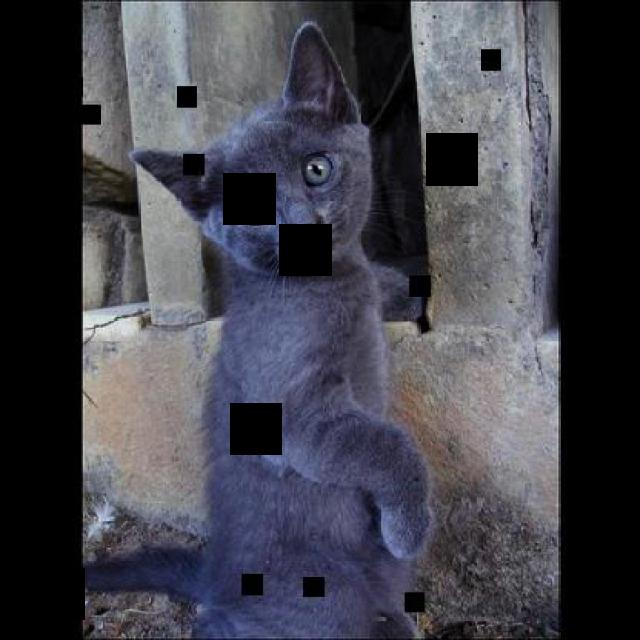unauthorized: (82, 19, 436, 638)
